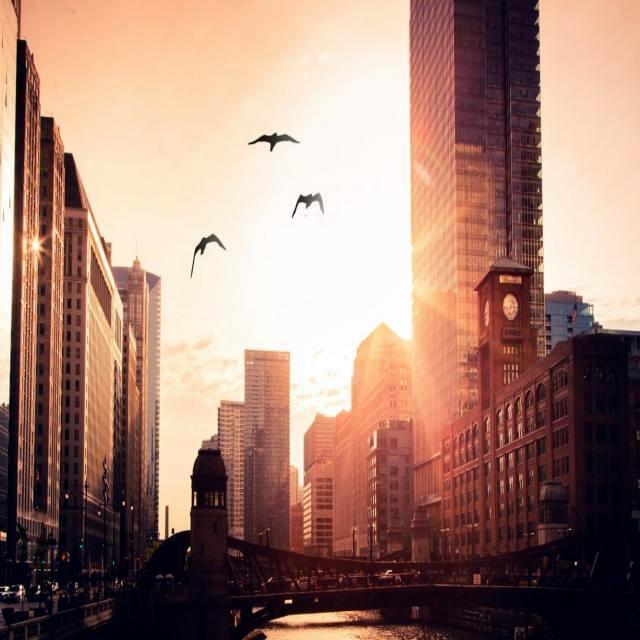bird: (248, 123, 296, 157), (187, 232, 224, 276), (292, 190, 326, 219)
